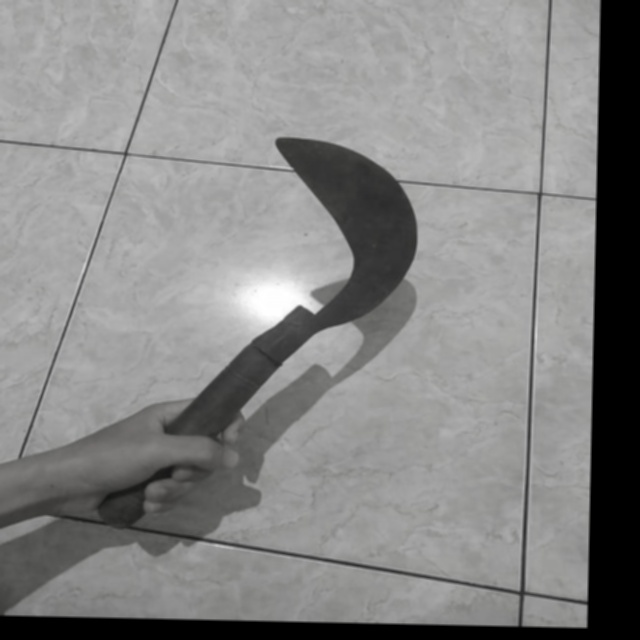Sharp-Object: (91, 121, 431, 542)
